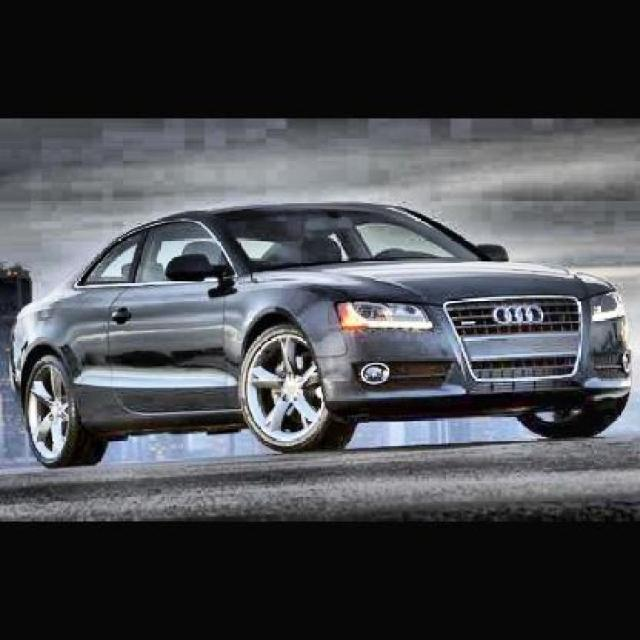black: (17, 163, 640, 494)
